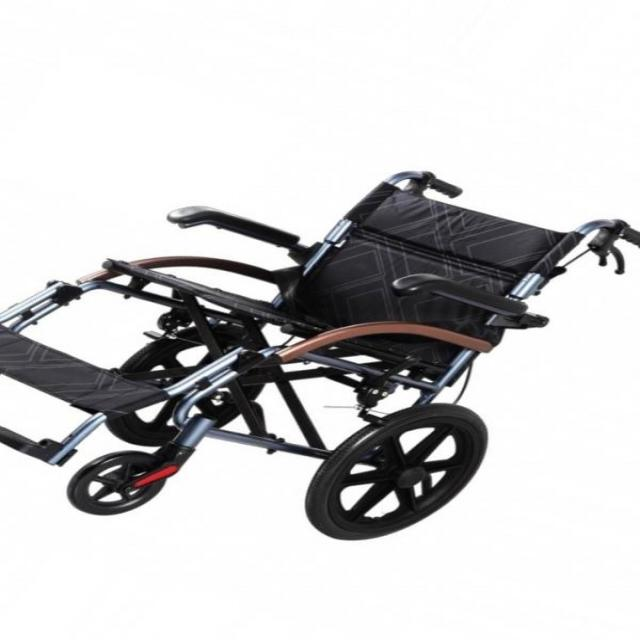wheelchair: (0, 165, 640, 550)
